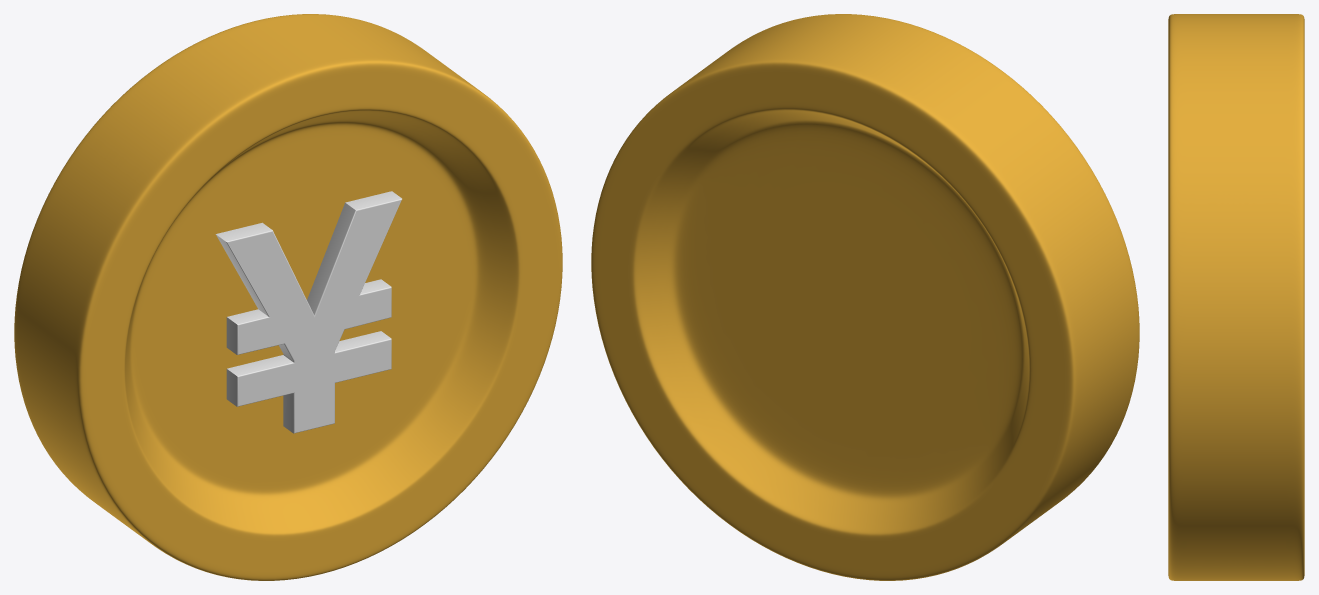
File: yuan.glb
3 renders of one model, left to right at view 1: azimuth 30°, elevation 25°; view 2: azimuth 150°, elevation 25°; view 3: azimuth 270°, elevation 25°, orthographic.
Visible parts, largest first — view 1: Yun; view 2: Yun; view 3: Yun.
Boxes of the visible parts, x1,y1,x2,y2 form: Yun: (14, 14, 562, 580); Yun: (591, 14, 1139, 580); Yun: (1168, 14, 1304, 580).
Bounding box in the file's own units: 1.86 × 1.86 × 0.448.
